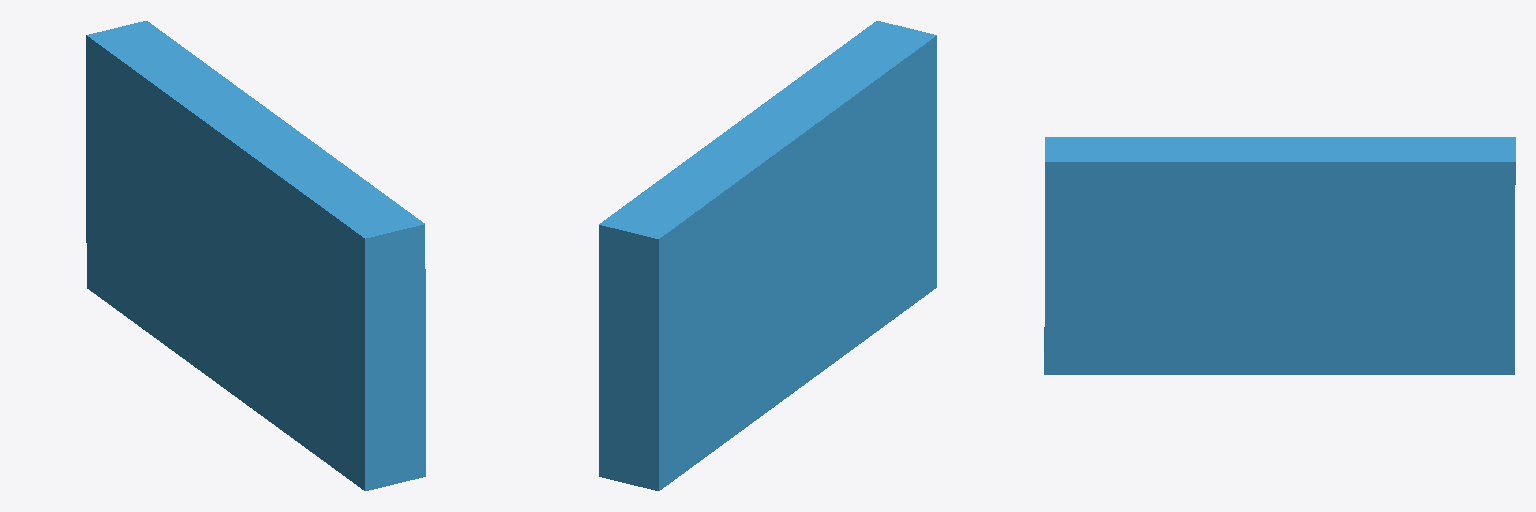
The robot description file, URDF, robot "camera_entranceway":
<?xml version="1.0"?>
<robot xmlns:sensor="http://playerstage.sourceforge.net/gazebo/xmlschema/#sensor"
       xmlns:controller="http://playerstage.sourceforge.net/gazebo/xmlschema/#controller"
       xmlns:interface="http://playerstage.sourceforge.net/gazebo/xmlschema/#interface"
       xmlns:xacro="http://ros.org/wiki/xacro"
       name="camera_entranceway">

<gazebo reference="camera_entranceway"> 
      <sensor:camera name="camera_entranceway">
        <imageSize>640 480</imageSize>
        <imageFormat>R8G8B8</imageFormat>
        <hfov>90</hfov>
        <nearClip>0.01</nearClip>
        <farClip>100</farClip>
        <updateRate>20.0</updateRate>
        <controller:gazebo_ros_camera name="camera_entranceway_controller" plugin="libgazebo_ros_camera.so">
          <alwaysOn>true</alwaysOn>
          <updateRate>20.0</updateRate>
          <imageTopicName>angen_cameras/entranceway/image</imageTopicName>
          <frameName>camera_entranceway</frameName>
          <interface:camera name="camera_entranceway_iface" />
        </controller:gazebo_ros_camera>
      </sensor:camera>
      <turnGravityOff>true</turnGravityOff>
      <material>Gazebo/Blue</material>   
  </gazebo>

<link name="world"/>
  <joint name="camera_pose" type="fixed">
    <axis xyz="1 0 0"/>
    <parent link="world"/>
    <origin rpy="1.57 0 0" xyz="0 0 0.2"/>
    <child link="camera"/>
    <dynamics damping="100" friction="1000"/>
  </joint>
  
<link name="camera">
     <inertial>
      <origin xyz="0 0 0" rpy="0 0 0" /> 
      <mass value="0.3" />
      <inertia  ixx="0.3" ixy="0.0"  ixz="0.0"  iyy="0.001"  iyz="0.0"  izz="0.05" />
    </inertial>
    <visual>
      <origin xyz="0 0 0" rpy="0 0 0" /> 
      <geometry>
        <box size=".025 .1 .2" />
      </geometry>
    </visual>
    <collision name="camera">
     <origin xyz="0 0 0" rpy="0 0 0" /> 
      <geometry>
       <box size=".025 .1 .2" />
      </geometry>
    </collision>
  </link>
</robot>

--- What the picture shows (computed from the rendered views, not written in the file) ---
Views: 3 orthographic renders of the robot side by side, from view 1: azimuth 30°, elevation 25°; view 2: azimuth 150°, elevation 25°; view 3: azimuth 270°, elevation 25°.
Robot: camera_entranceway — 2 links, 1 joints (1 fixed); root link world; default pose: all joints at 0.
Visible links, largest first — view 1: camera; view 2: camera; view 3: camera.
Link boxes in pixels (x1,y1,x2,y2): camera: (86, 21, 425, 490); camera: (599, 21, 936, 490); camera: (1044, 137, 1515, 374).
Bounding box of the posed robot: 0.025 × 0.2001 × 0.1002 m (x, y, z).
Geometry: primitives only (box / cylinder / sphere), no mesh files.